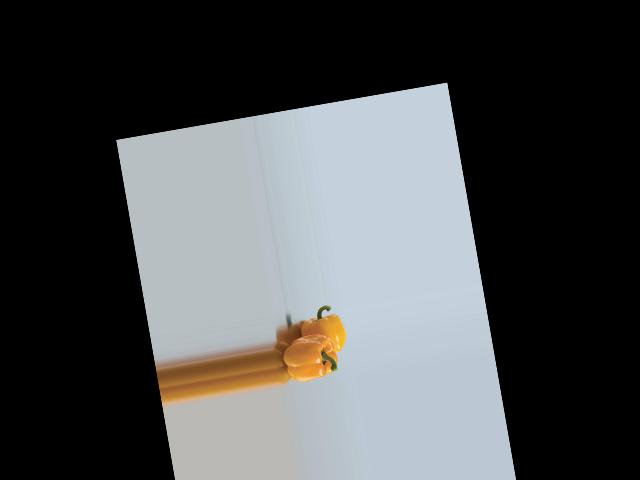bell_pepper: (289, 303, 349, 360)
